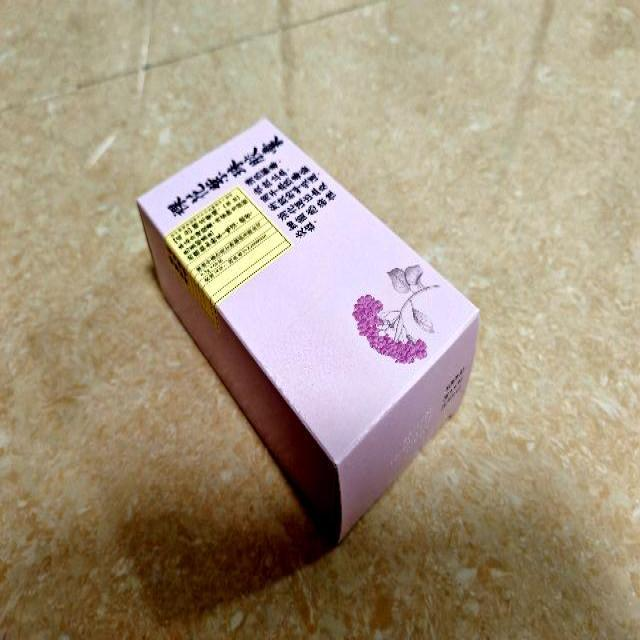box: (137, 119, 480, 548)
